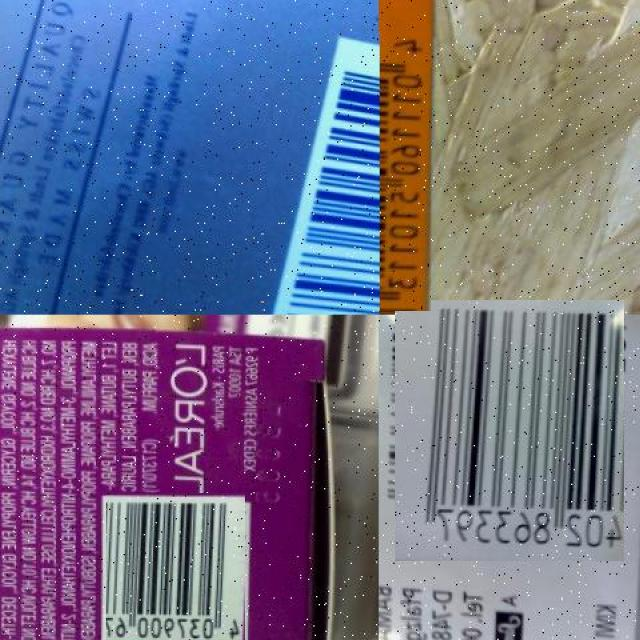Barcode: (387, 307, 632, 553), (262, 37, 378, 315), (103, 497, 250, 640), (378, 32, 431, 311)
